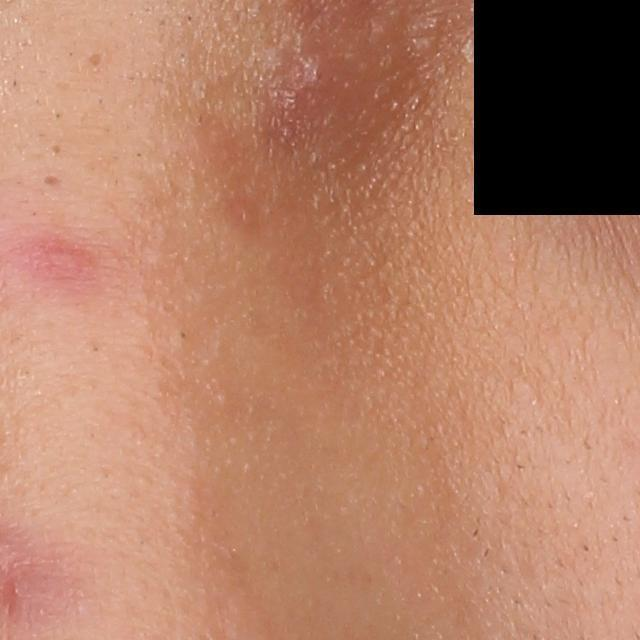comedo: (36, 169, 68, 195), (82, 45, 105, 72), (170, 325, 195, 347), (47, 138, 69, 158)
